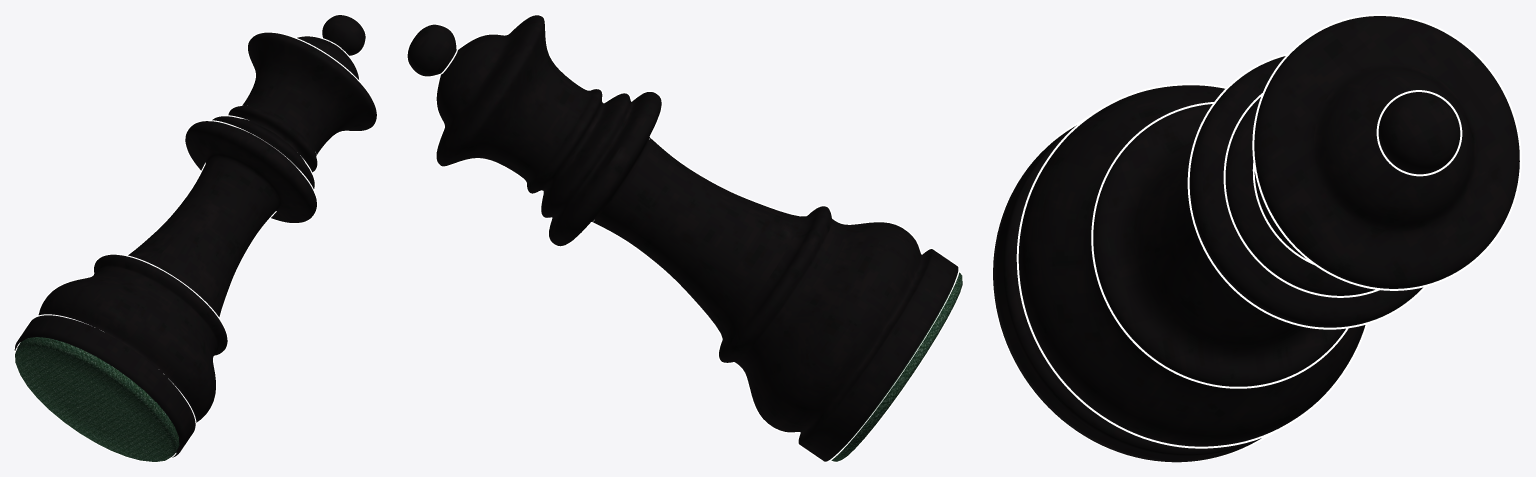
Rendered from blackqueen.glb.
3 views of the same model, side by side, from view 1: azimuth 30°, elevation 25°; view 2: azimuth 150°, elevation 25°; view 3: azimuth 270°, elevation 25° (orthographic). The views are drawn at different scales.
Parts seen in each view (by area): view 1: Cylinder001_Material #35_0, Cylinder002_Material #30_0, Cylinder003_11 - Default_0; view 2: Cylinder001_Material #35_0, Cylinder003_11 - Default_0, Cylinder002_Material #30_0; view 3: Cylinder001_Material #35_0, Cylinder003_11 - Default_0.
Boxes of the visible parts, x1,y1,x2,y2 form: Cylinder001_Material #35_0: (14,15,376,457); Cylinder002_Material #30_0: (15,337,179,461); Cylinder003_11 - Default_0: (14,14,377,462); Cylinder001_Material #35_0: (407,15,958,461); Cylinder003_11 - Default_0: (406,14,963,462); Cylinder002_Material #30_0: (831,272,962,461); Cylinder001_Material #35_0: (993,16,1519,462); Cylinder003_11 - Default_0: (992,14,1521,462).
Size of the model in its own units: 188 by 156 by 120.
3 materials, 2 textured.
